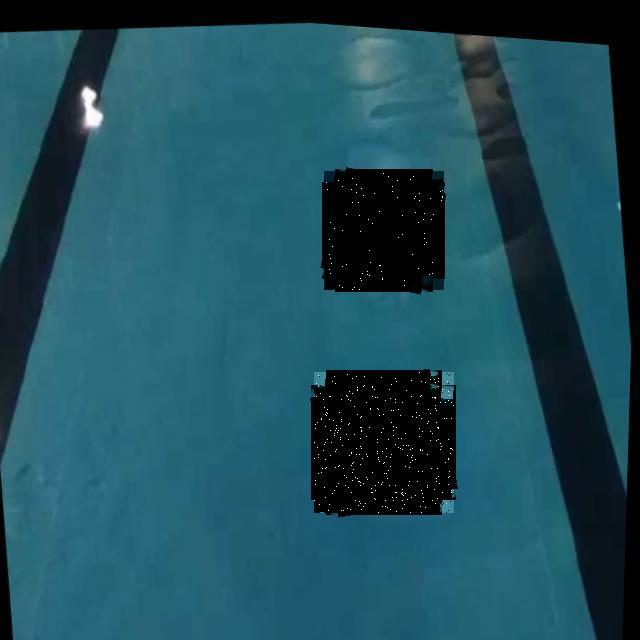swimming: (314, 372, 454, 513), (324, 171, 444, 290)
